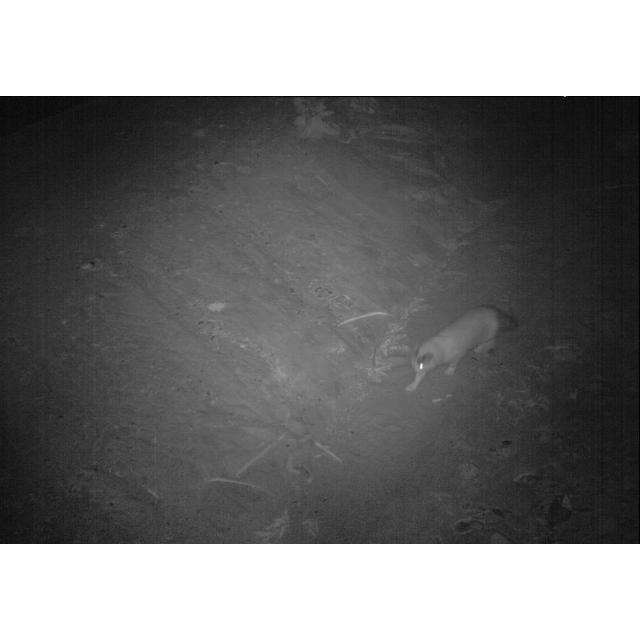animals: (408, 306, 518, 392)
